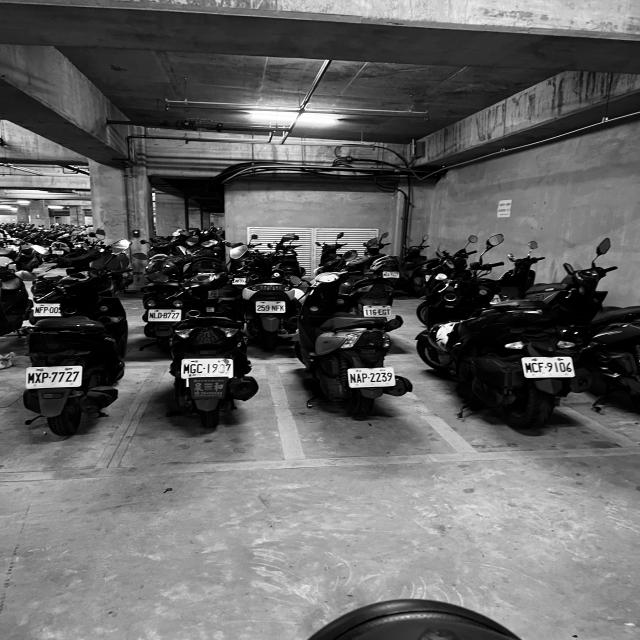-: (544, 366, 547, 368), (203, 368, 206, 370), (162, 314, 164, 316), (376, 311, 378, 313), (368, 376, 370, 378), (49, 376, 50, 378)
0: (560, 362, 566, 372), (218, 364, 224, 374), (50, 307, 54, 313), (54, 307, 58, 313)
1: (554, 362, 558, 373), (207, 362, 211, 373), (369, 309, 372, 315), (366, 309, 368, 315)
2: (370, 372, 376, 382), (375, 372, 381, 382), (66, 372, 72, 382), (172, 312, 176, 318), (257, 305, 261, 311)
3: (381, 372, 387, 382)
5: (262, 305, 266, 311)
6: (566, 362, 572, 372), (372, 309, 377, 315)
7: (226, 364, 232, 374), (52, 372, 58, 382), (73, 372, 79, 382), (59, 372, 64, 382), (168, 312, 172, 318), (176, 313, 180, 319)
8: (163, 312, 167, 318)
9: (547, 362, 553, 372), (212, 364, 218, 374), (387, 372, 392, 381), (265, 305, 270, 311), (240, 280, 242, 283), (242, 280, 244, 283)
A: (356, 373, 362, 383)
C: (532, 362, 538, 373), (197, 364, 203, 374)
D: (158, 312, 162, 318)
E: (378, 309, 382, 315)
F: (538, 362, 546, 372), (40, 308, 44, 314), (276, 305, 280, 311)
G: (190, 364, 197, 374), (382, 309, 387, 315)
K: (280, 305, 284, 311), (237, 280, 239, 282)
L: (154, 312, 158, 318)
M: (524, 362, 532, 373), (183, 364, 190, 374), (28, 372, 34, 383)
N: (350, 373, 356, 383), (35, 307, 39, 313), (150, 312, 154, 318), (272, 305, 276, 311)
P: (42, 372, 48, 383), (362, 373, 368, 383), (44, 307, 48, 313)
T: (386, 309, 391, 315)
X: (35, 372, 41, 383)
plate: (523, 358, 575, 378), (182, 359, 232, 379), (26, 370, 81, 388), (349, 370, 395, 386), (148, 310, 181, 322), (256, 302, 286, 312), (363, 306, 391, 316), (383, 272, 399, 278)
